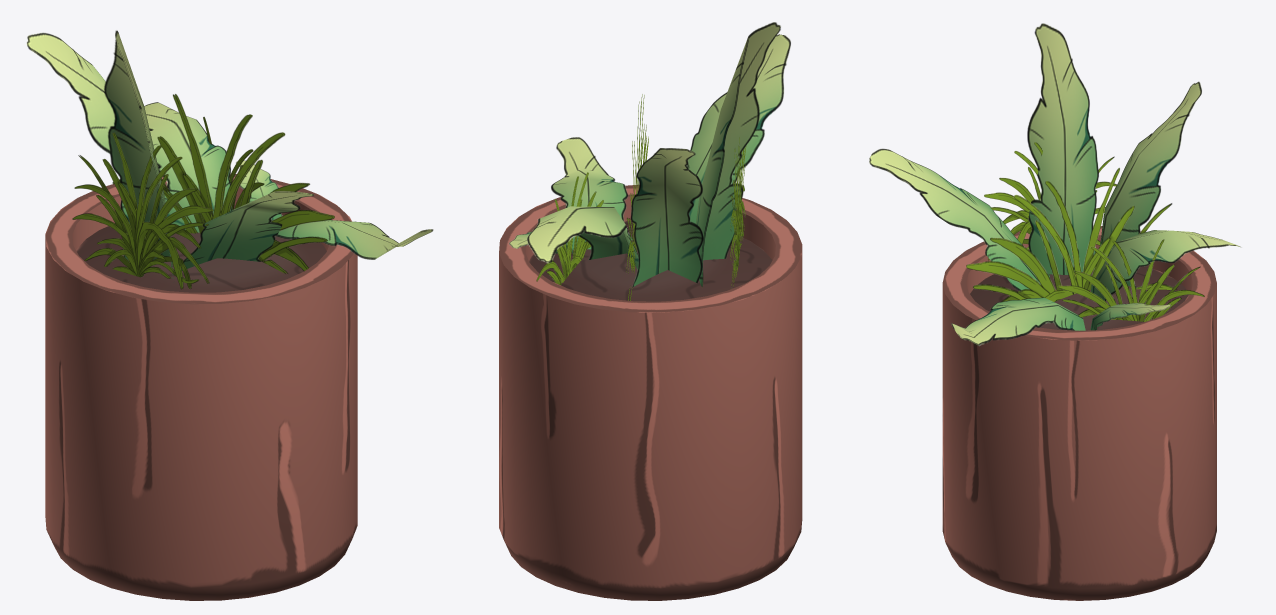
The model's file is plant_small.glb.
The picture shows the model from 3 angles, left to right: view 1: azimuth 30°, elevation 25°; view 2: azimuth 150°, elevation 25°; view 3: azimuth 270°, elevation 25°; orthographic projection. The views are drawn at different scales.
Visible parts, largest first — view 1: PottedPlant; view 2: PottedPlant; view 3: PottedPlant.
Part boxes in pixels (left/top/right/bottom): PottedPlant: left=26, top=30, right=433, bottom=600; PottedPlant: left=499, top=22, right=802, bottom=600; PottedPlant: left=869, top=23, right=1241, bottom=600.
Size of the model in its own units: 0.873 by 1.47 by 1.08.
Materials: 1 (1 with a texture image).
